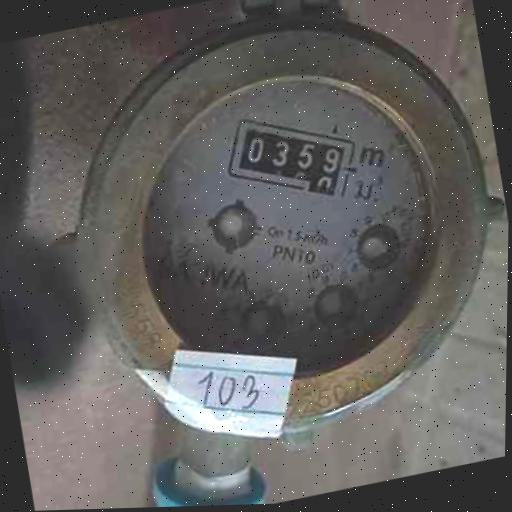0: (232, 124, 278, 178)
3: (255, 129, 301, 182)
5: (278, 131, 326, 186)
9: (298, 137, 351, 201)
border_water_meter_number: (214, 94, 367, 223)
